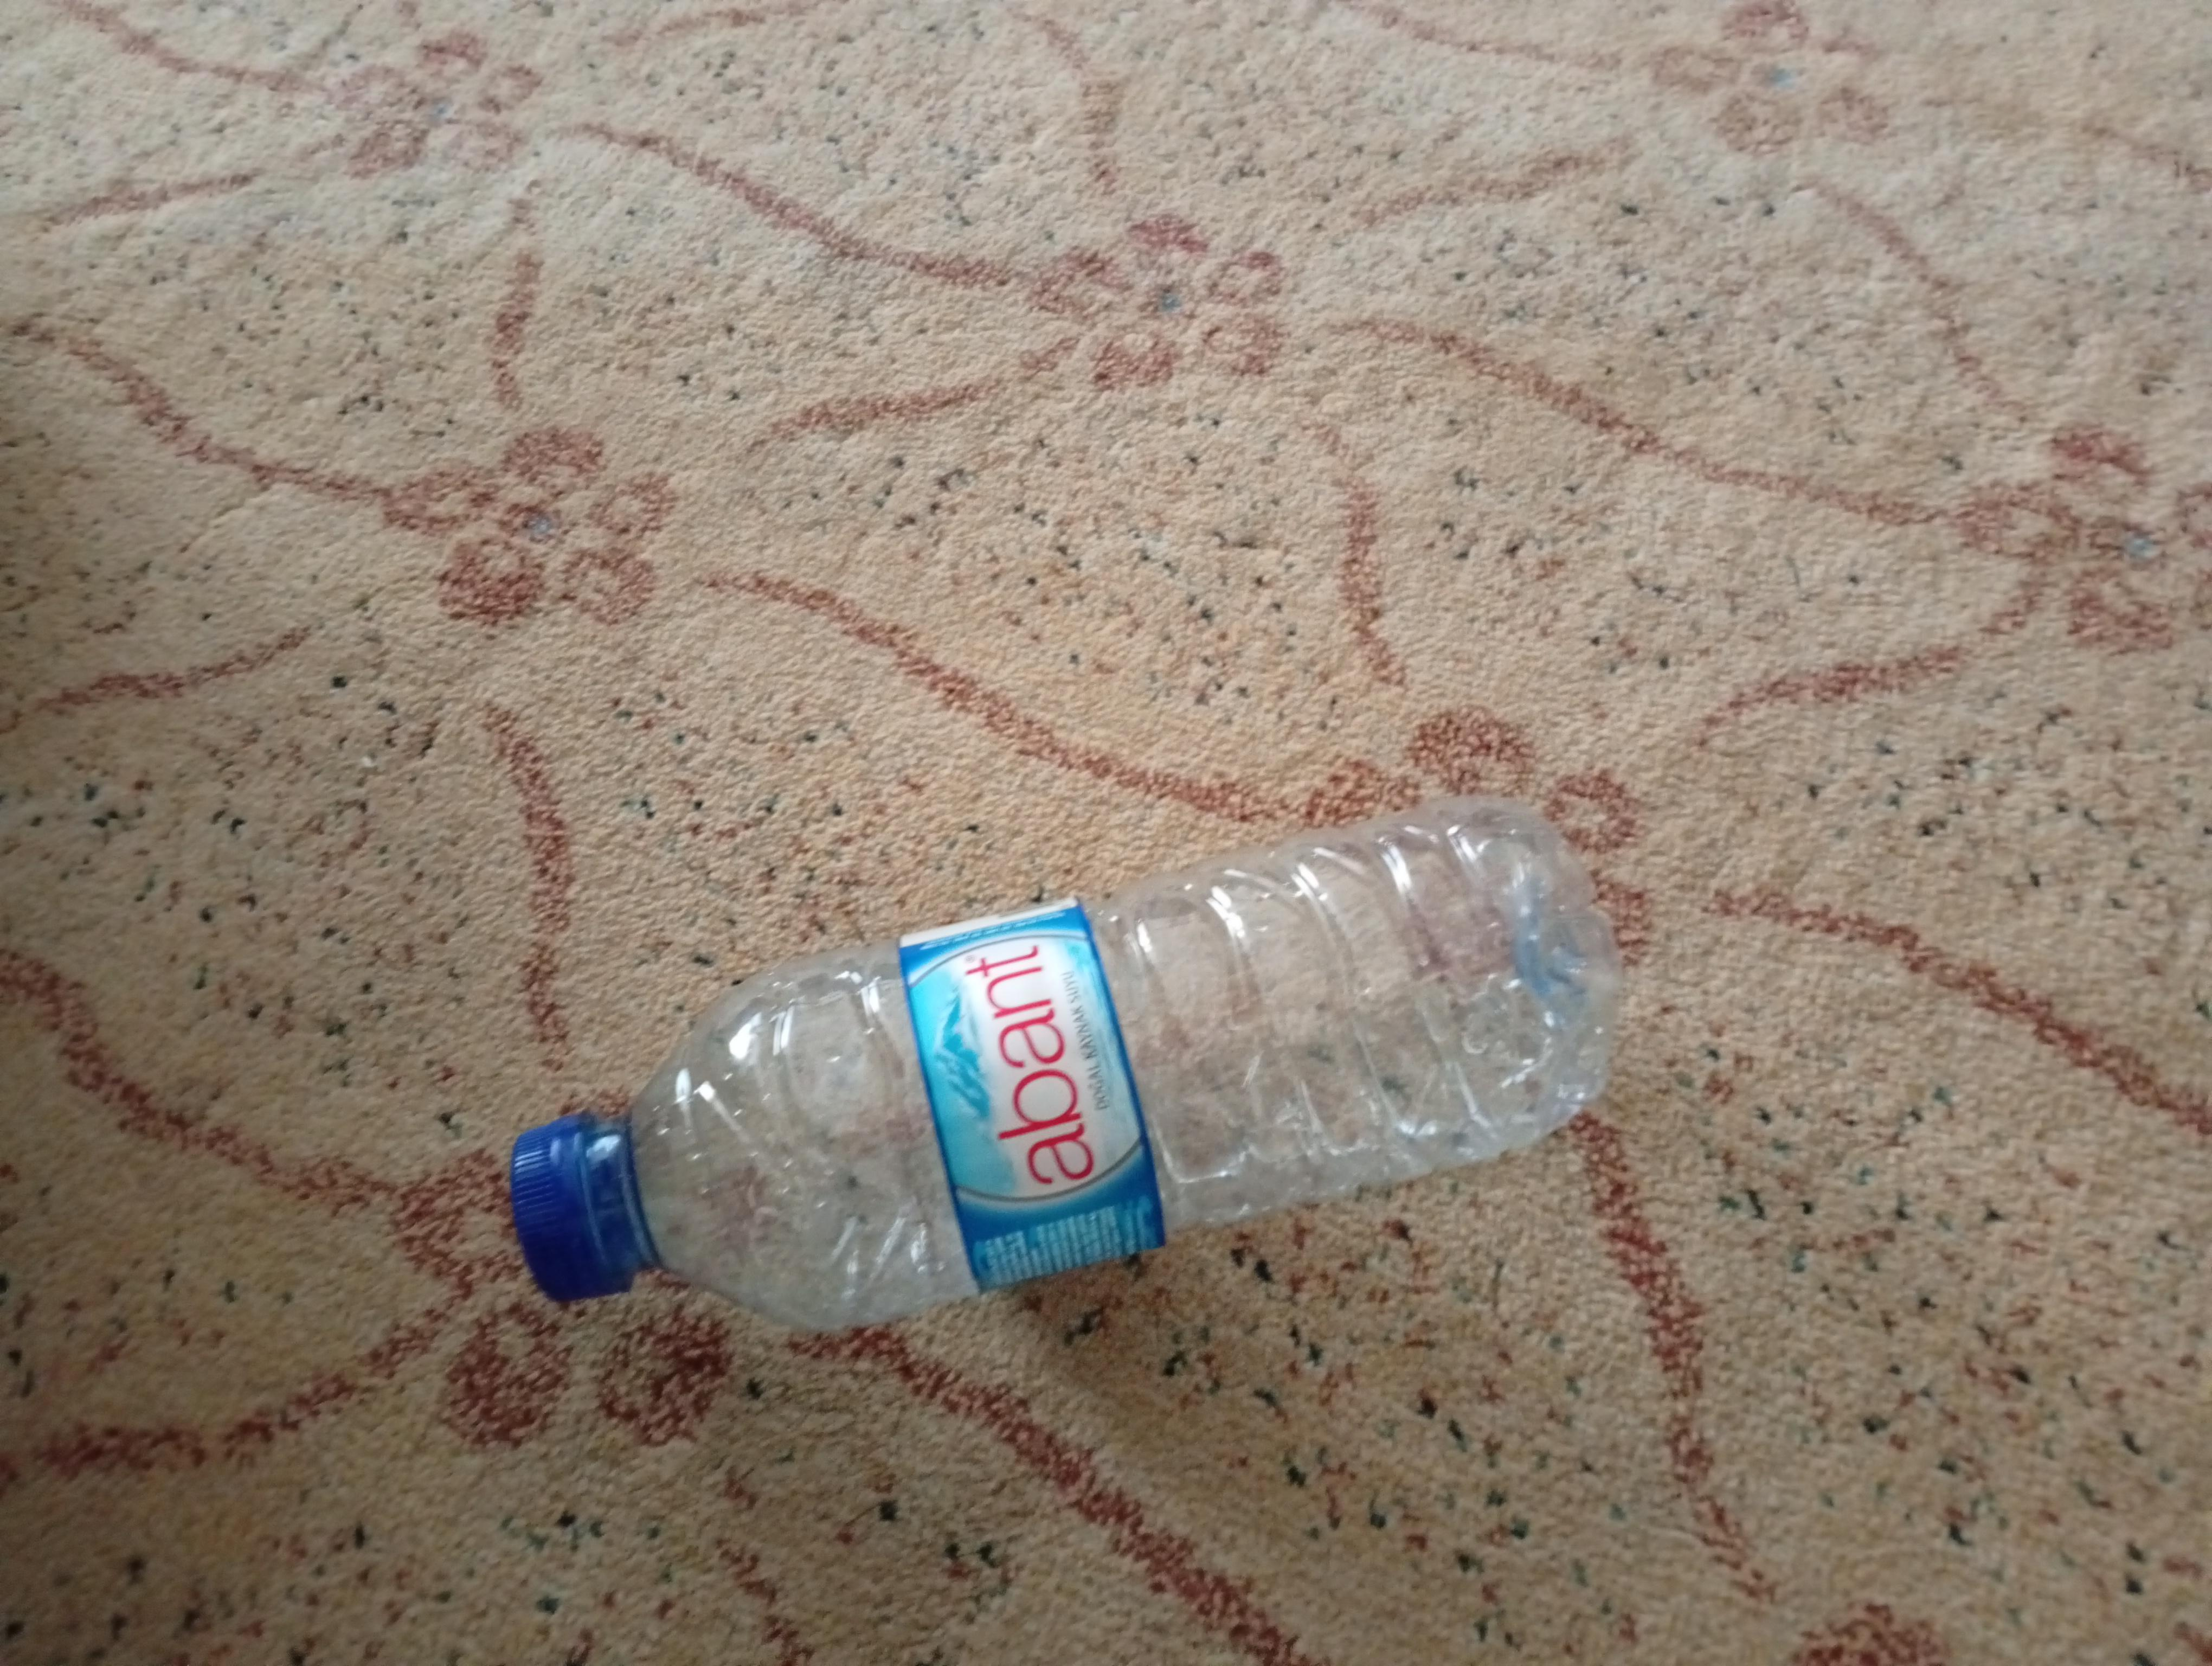etiketli: (423, 782, 1708, 1395)
